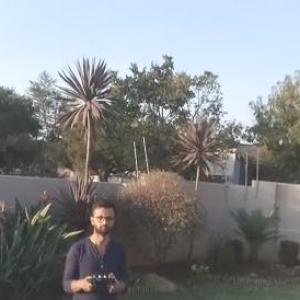follow: (58, 194, 134, 299)
